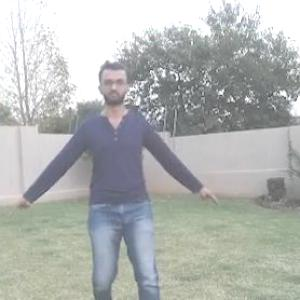land: (23, 61, 221, 299)
